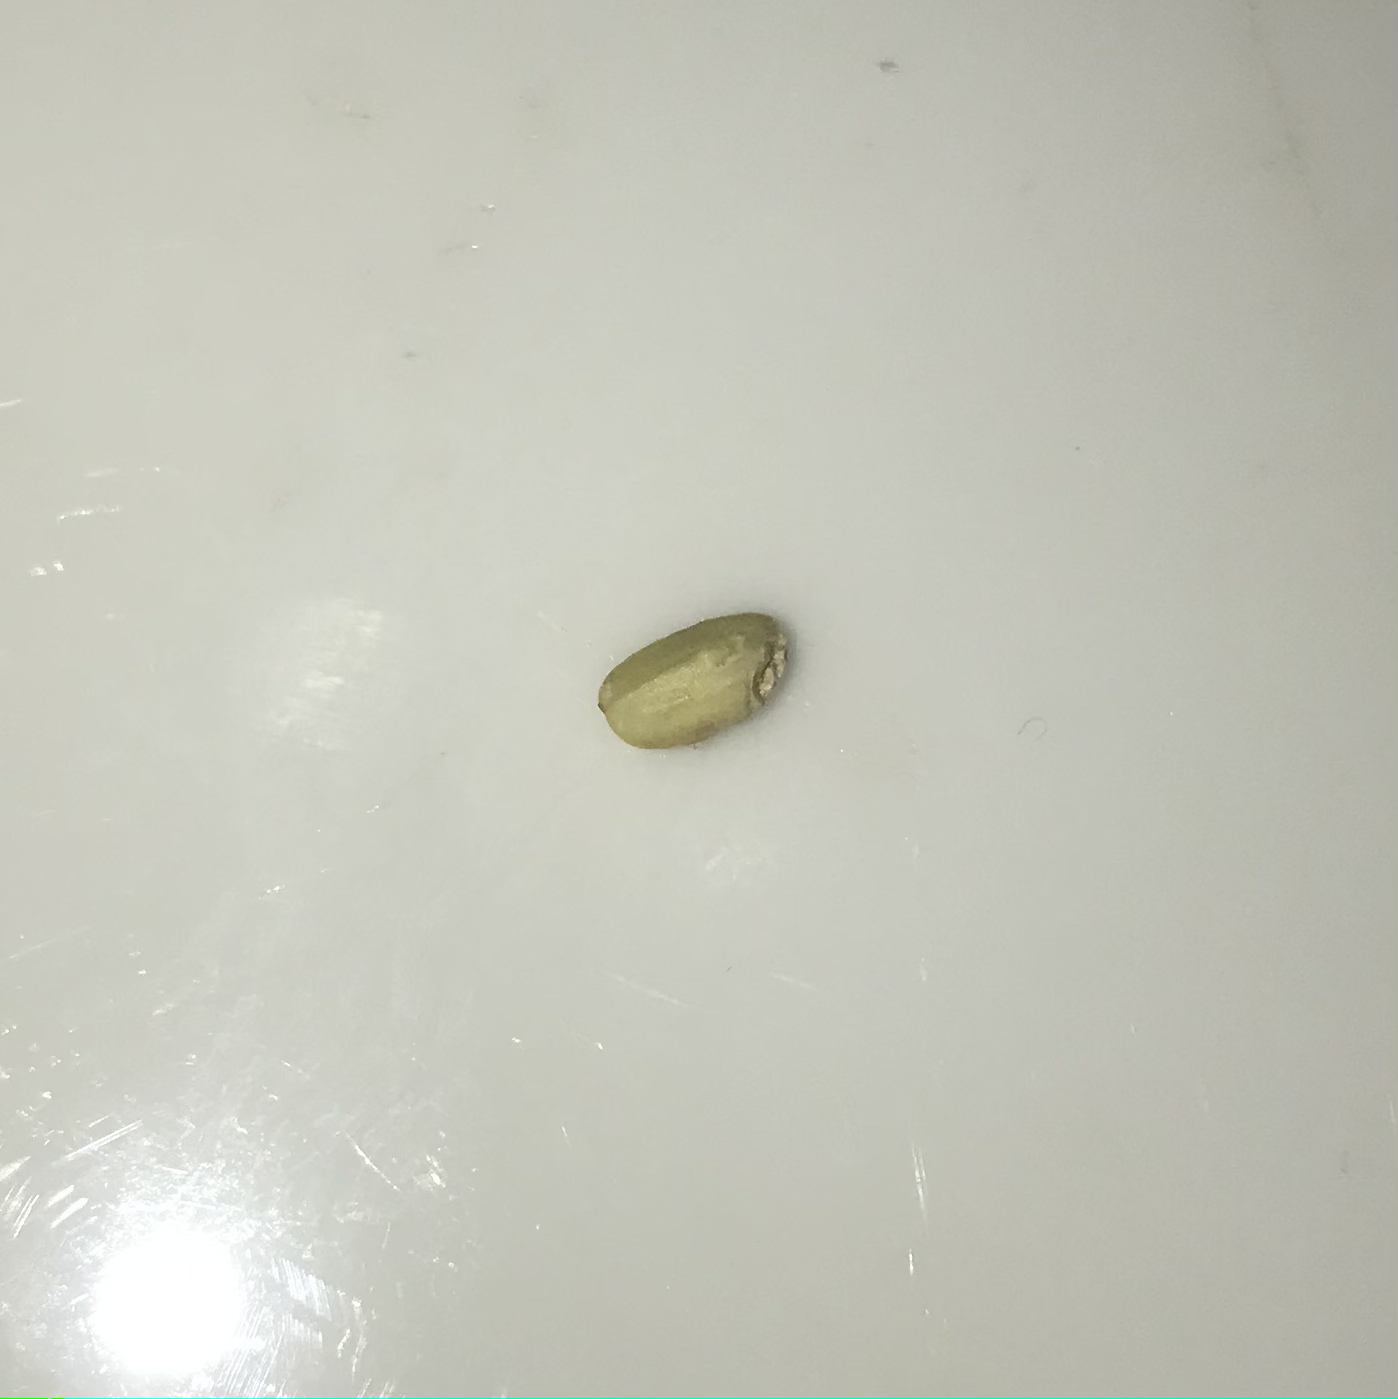Gao Lut Bac: (568, 584, 805, 762)
